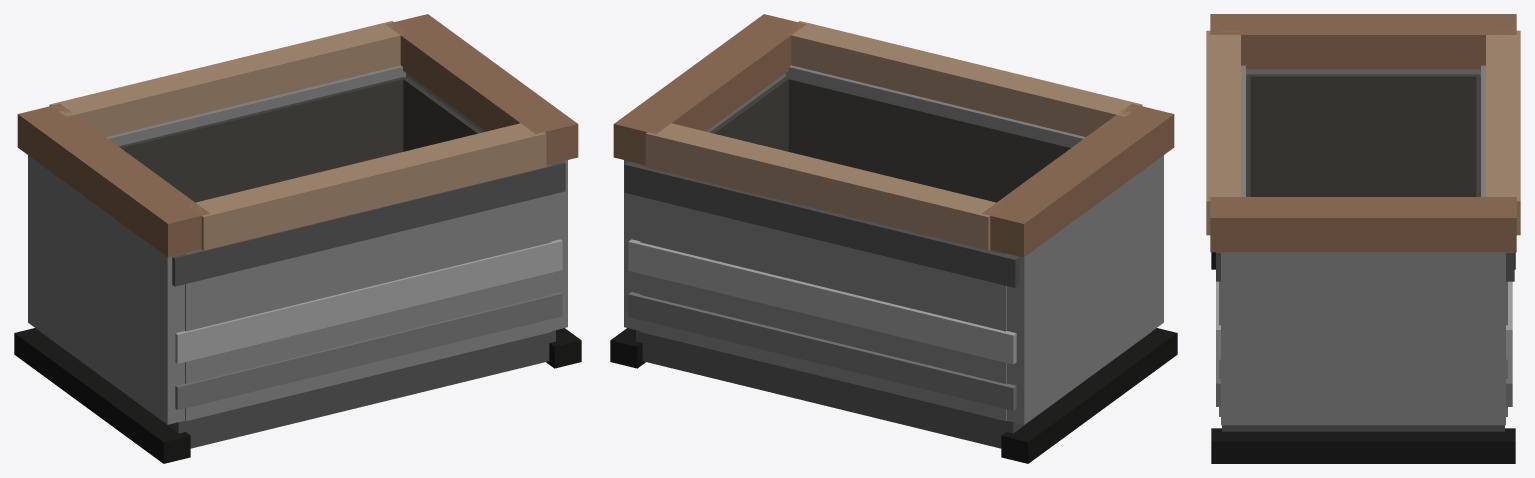
Rendered from CMU3DCMBucketMop.glb.
3 views of the same model, side by side, from view 1: azimuth 30°, elevation 25°; view 2: azimuth 150°, elevation 25°; view 3: azimuth 270°, elevation 25° (orthographic).
Visible parts, largest first — view 1: bucket end wall (×2), brown rim end (×2), bucket side wall (×2), brown rim side (×2), inner end liner, bright middle band, upper rolled band, bucket base, lower rolled band, black base corner (×2), inner side liner; view 2: bucket end wall (×2), brown rim end (×2), bucket side wall (×2), brown rim side (×2), inner end liner, upper rolled band, bright middle band, bucket base, lower rolled band, black base corner (×2), inner side liner; view 3: bucket side wall (×2), brown rim side (×2), inner side liner, brown rim end (×2), black base corner, bucket base, bucket end wall (×2), inner end liner (×2), bright middle band.
Boxes of the visible parts, x1=… form: bucket end wall (×2): x1=106, y1=65, x2=551, y2=421; brown rim end (×2): x1=49, y1=21, x2=546, y2=250; bucket side wall (×2): x1=28, y1=73, x2=567, y2=424; brown rim side (×2): x1=17, y1=14, x2=578, y2=257; inner end liner: x1=119, y1=77, x2=403, y2=202; bright middle band: x1=175, y1=239, x2=562, y2=363; upper rolled band: x1=172, y1=161, x2=565, y2=286; bucket base: x1=40, y1=330, x2=555, y2=448; lower rolled band: x1=175, y1=292, x2=562, y2=409; black base corner (×2): x1=14, y1=328, x2=581, y2=463; inner side liner: x1=402, y1=76, x2=482, y2=151; bucket end wall (×2): x1=640, y1=65, x2=1085, y2=421; brown rim end (×2): x1=645, y1=21, x2=1142, y2=250; bucket side wall (×2): x1=624, y1=73, x2=1163, y2=424; brown rim side (×2): x1=613, y1=14, x2=1174, y2=257; inner end liner: x1=788, y1=77, x2=1072, y2=202; upper rolled band: x1=624, y1=161, x2=1019, y2=287; bright middle band: x1=628, y1=239, x2=1016, y2=364; bucket base: x1=636, y1=330, x2=1151, y2=448; lower rolled band: x1=628, y1=292, x2=1016, y2=410; black base corner (×2): x1=610, y1=328, x2=1177, y2=463; inner side liner: x1=709, y1=76, x2=789, y2=151; bucket side wall (×2): x1=1221, y1=69, x2=1505, y2=425; brown rim side (×2): x1=1210, y1=14, x2=1516, y2=252; inner side liner: x1=1247, y1=74, x2=1479, y2=196; brown rim end (×2): x1=1206, y1=30, x2=1520, y2=235; black base corner: x1=1211, y1=428, x2=1515, y2=463; bucket base: x1=1222, y1=425, x2=1504, y2=431; bucket end wall (×2): x1=1219, y1=65, x2=1507, y2=416; inner end liner (×2): x1=1246, y1=75, x2=1480, y2=196; bright middle band: x1=1506, y1=281, x2=1512, y2=359.
Bounding box in the file's own units: 0.434 × 0.2376 × 0.2771.
